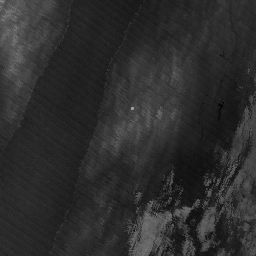Target: (128, 106, 135, 112)
